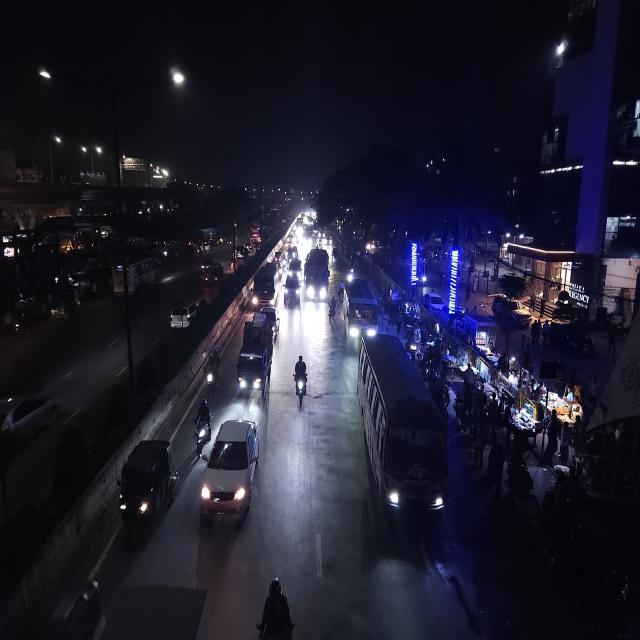bus: (356, 330, 449, 535), (340, 278, 381, 344), (115, 258, 158, 298), (306, 246, 330, 306), (252, 262, 280, 308), (247, 226, 261, 246)
car: (202, 418, 264, 525), (0, 381, 62, 452), (168, 299, 205, 329), (284, 272, 302, 310), (232, 243, 246, 260)
cng: (117, 438, 178, 548)
motorcycle: (192, 398, 212, 460), (292, 354, 312, 407), (203, 347, 223, 399), (324, 295, 339, 325)
pickup_van: (236, 318, 274, 401), (204, 262, 222, 285)
